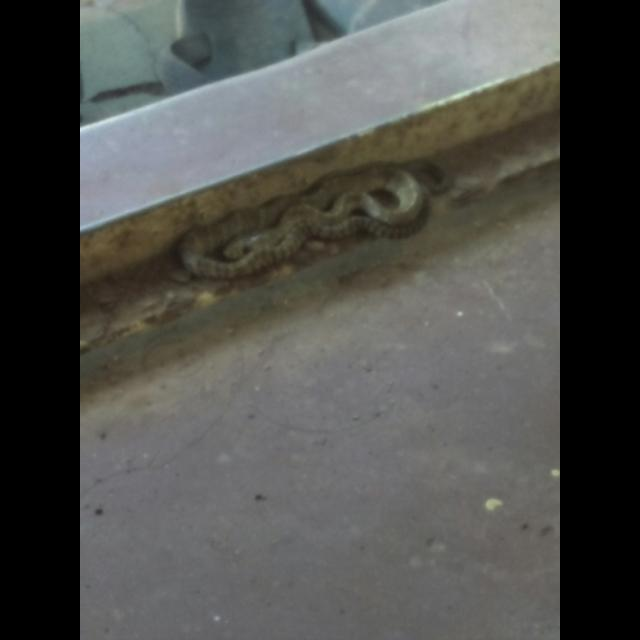snake: (172, 151, 464, 281)
